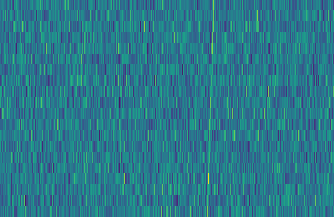signal: (203, 0, 218, 217)
